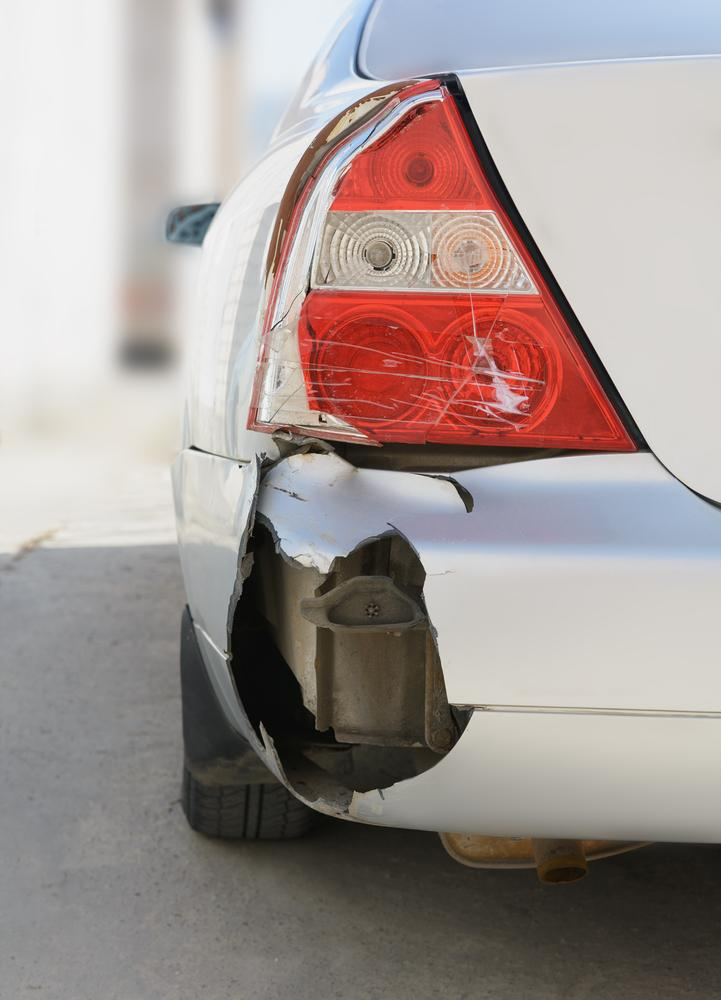crack: (419, 475, 476, 516)
lamp broken: (251, 75, 642, 454)
